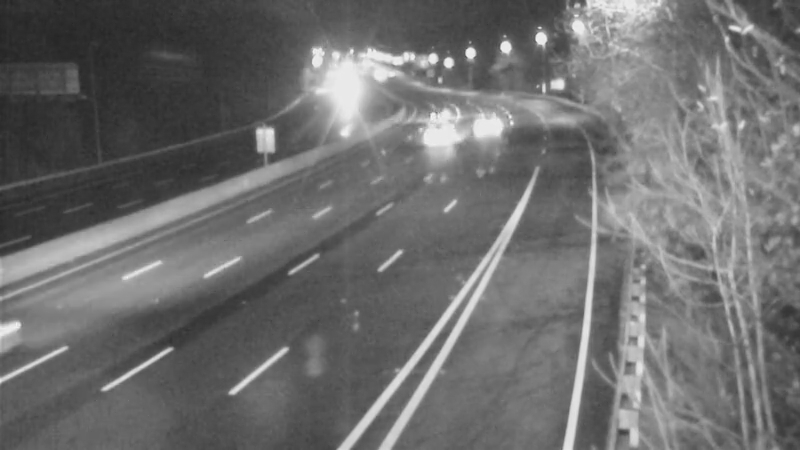vehicle: (408, 90, 458, 140), (459, 102, 509, 152), (418, 106, 468, 156)
